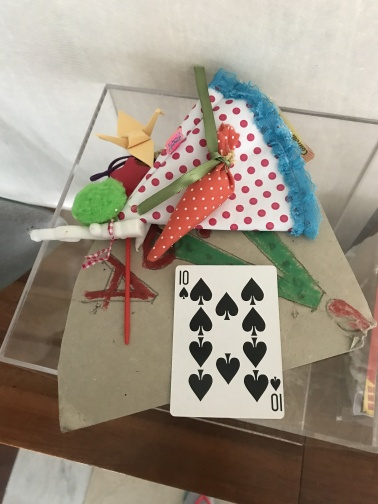ten: (168, 265, 286, 420)
